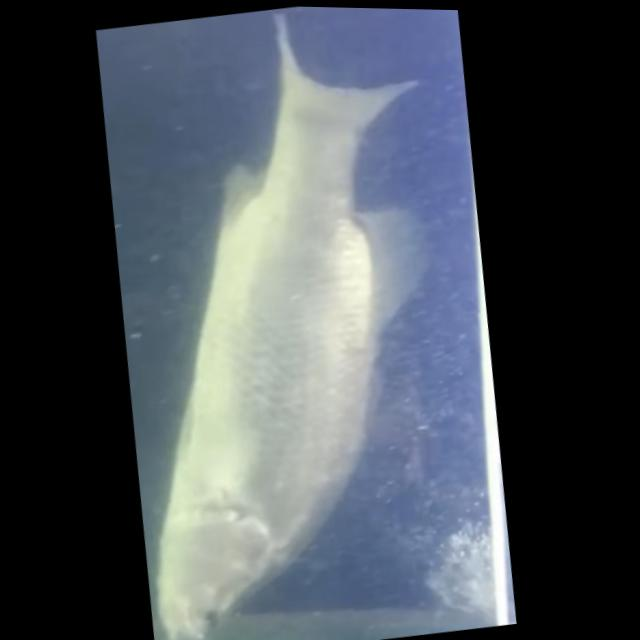Seabass: (76, 2, 499, 640)
